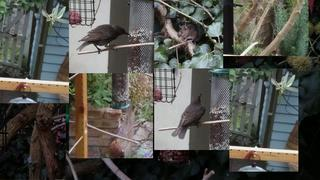mouse: (177, 24, 199, 45)
starling: (171, 92, 205, 140), (76, 24, 130, 54)
